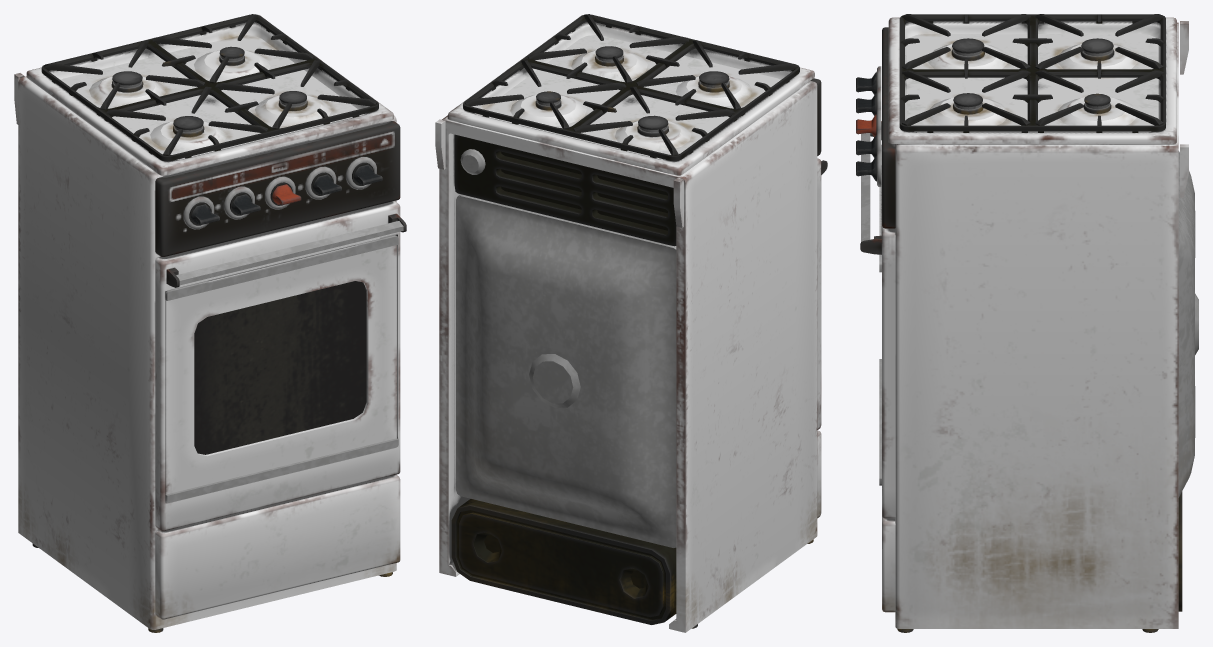
File: gas_stove_main.fbx
3 renders of one model, left to right at view 1: azimuth 30°, elevation 25°; view 2: azimuth 150°, elevation 25°; view 3: azimuth 270°, elevation 25°, orthographic. The views are drawn at different scales.
Parts seen in each view (by area): view 1: Gas_stove; view 2: Gas_stove; view 3: Gas_stove.
Part boxes in pixels (box(x1,y1,x2,y2)): Gas_stove: box(14, 14, 406, 632); Gas_stove: box(435, 14, 827, 632); Gas_stove: box(856, 14, 1198, 632).
Bounding box in the file's own units: 48.78 × 90.05 × 55.56.
